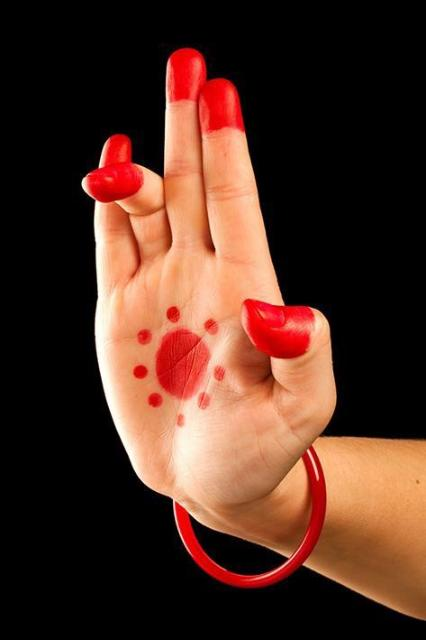tripataka: (84, 50, 426, 623)
